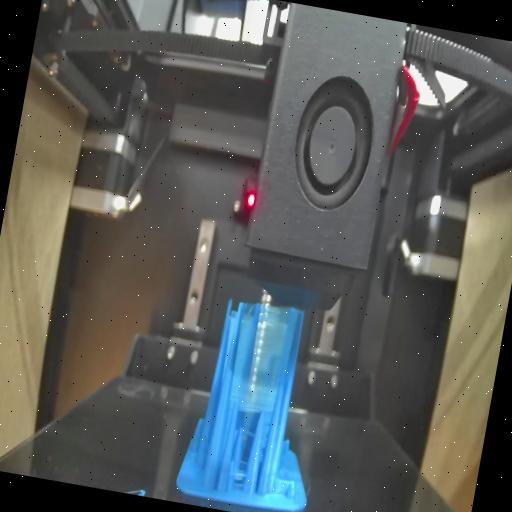stringing: (227, 298, 296, 414), (228, 425, 254, 493), (268, 474, 296, 500)
